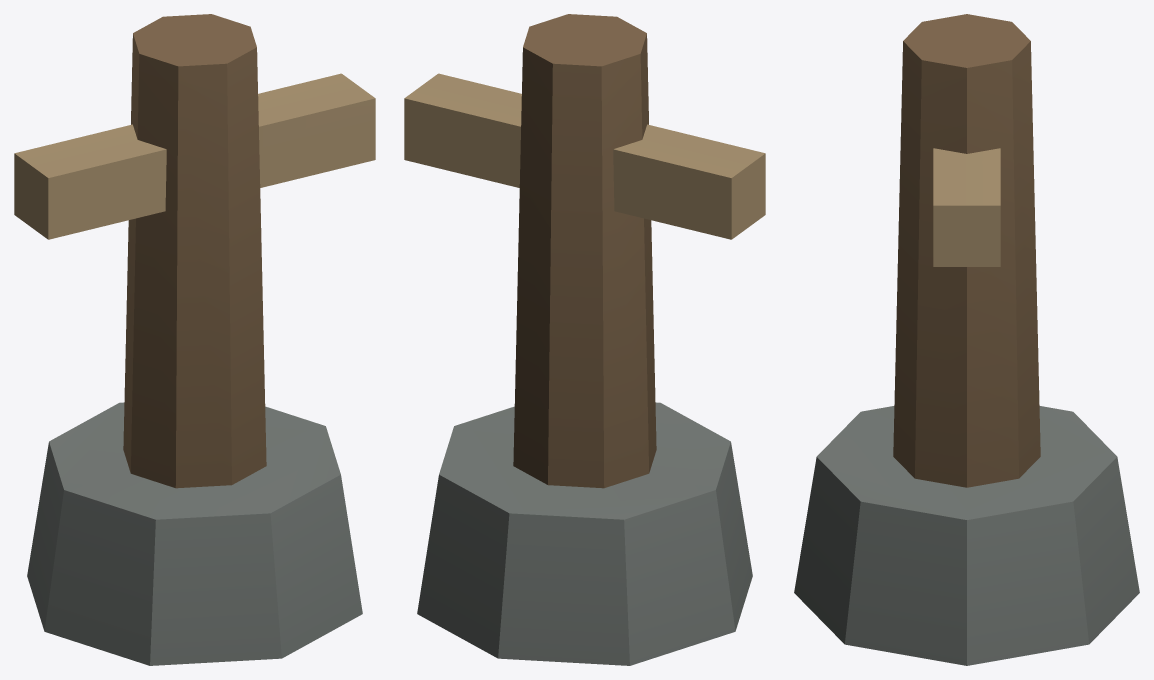
File: harbor_bollard.glb
The picture shows the model from 3 angles, left to right: view 1: azimuth 30°, elevation 25°; view 2: azimuth 150°, elevation 25°; view 3: azimuth 270°, elevation 25°; orthographic projection.
Parts seen in each view (by area): view 1: harbor_bollard; view 2: harbor_bollard; view 3: harbor_bollard.
Boxes of the visible parts, box(x1,y1,x2,y2) form: harbor_bollard: box(14, 14, 375, 665); harbor_bollard: box(404, 14, 765, 665); harbor_bollard: box(794, 14, 1139, 665).
Size of the model in its own units: 0.5 by 0.81 by 0.46.
